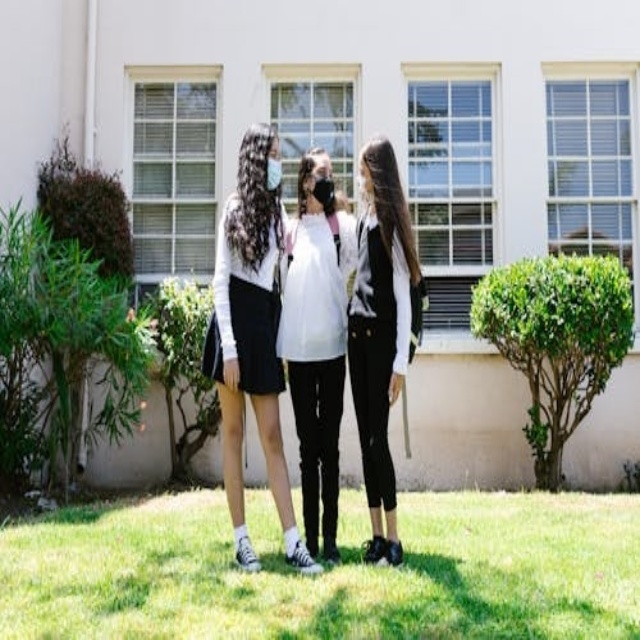Mascara: (311, 178, 336, 211), (266, 158, 283, 191), (356, 173, 371, 202)
Sin_guantes: (384, 367, 408, 413), (221, 354, 243, 394)
